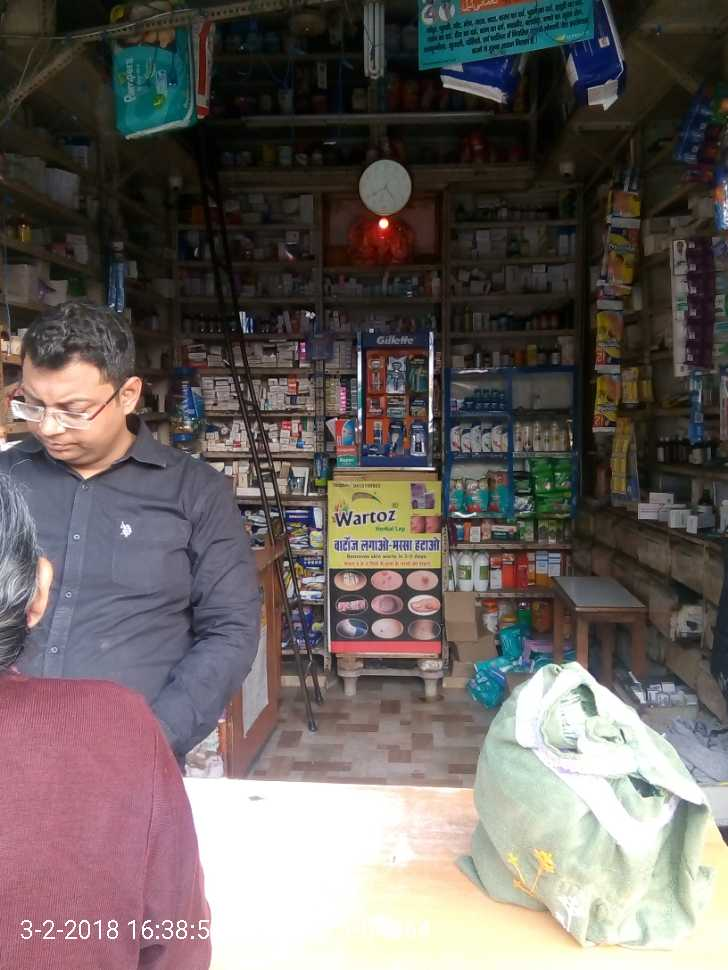vicks: (451, 387, 508, 414)
